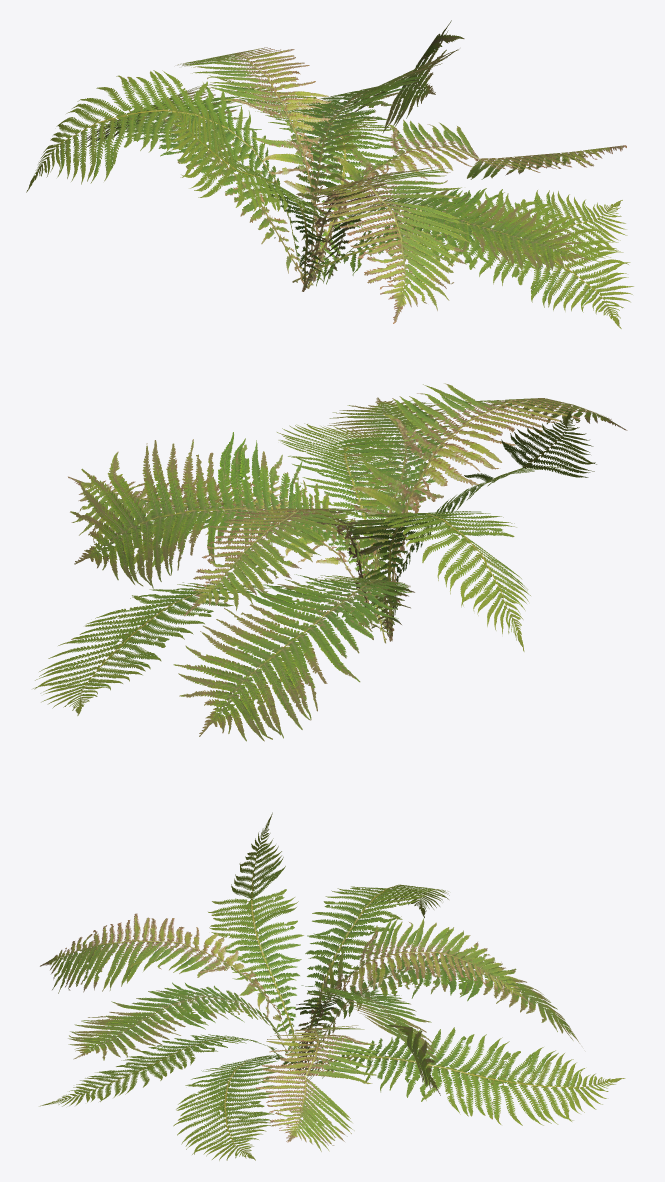
The model's file is sm_Fern_01_01.fbx.
3 renders of one model, top to bottom at view 1: azimuth 30°, elevation 25°; view 2: azimuth 150°, elevation 25°; view 3: azimuth 270°, elevation 25°, orthographic. The views are drawn at different scales.
Visible parts, largest first — view 1: sm_Fern_01_01_LOD0; view 2: sm_Fern_01_01_LOD0; view 3: sm_Fern_01_01_LOD0.
Boxes of the visible parts, x1=… form: sm_Fern_01_01_LOD0: x1=26, y1=20, x2=633, y2=328; sm_Fern_01_01_LOD0: x1=33, y1=383, x2=627, y2=741; sm_Fern_01_01_LOD0: x1=39, y1=812, x2=625, y2=1160.
Size of the model in its own units: 158 by 197 by 78.59.
